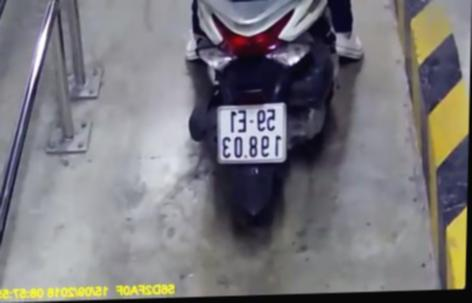License_Plate: (211, 97, 295, 174)
